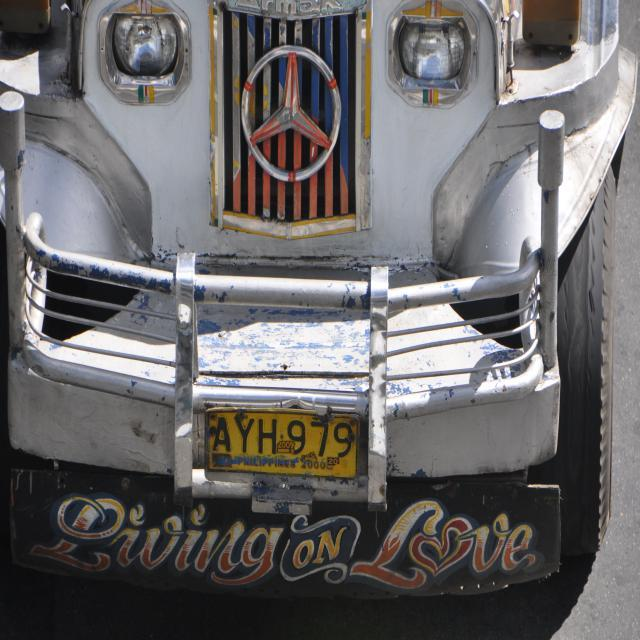LicensePlate: (199, 396, 364, 489)
